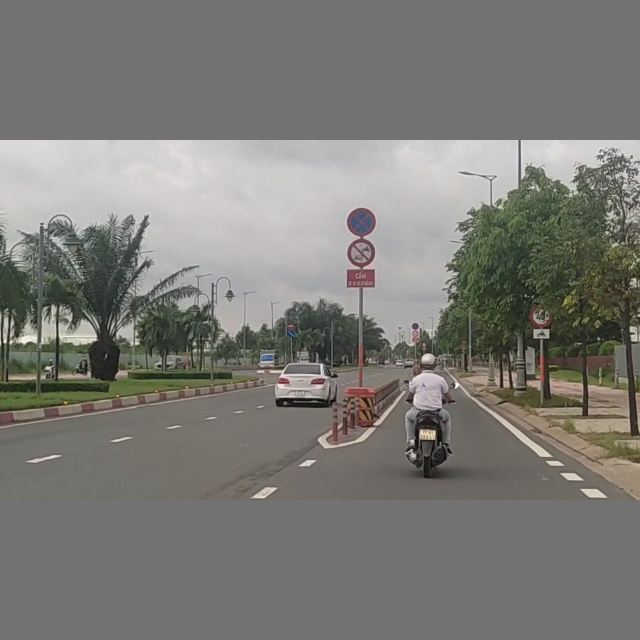P.111: (347, 237, 375, 268)
P.130: (346, 204, 376, 237)
